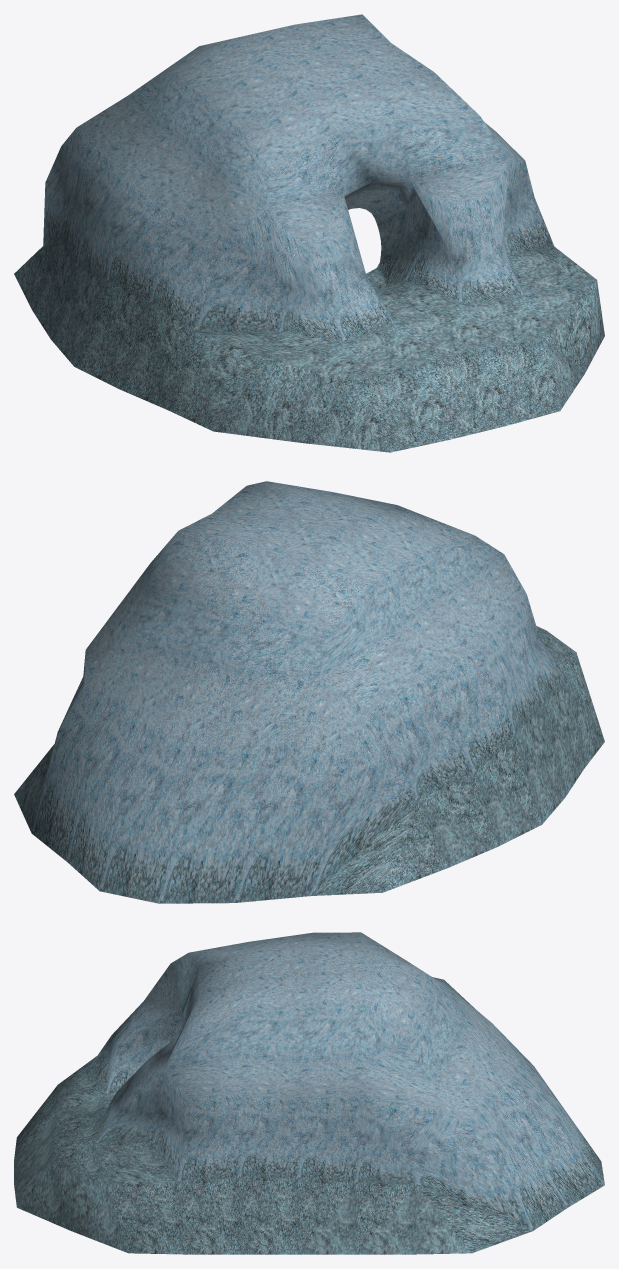
The model's file is thm_all_cave_flatland_s01_ice_r0_mesh_l2.fbx.
3 renders of one model, top to bottom at view 1: azimuth 30°, elevation 25°; view 2: azimuth 150°, elevation 25°; view 3: azimuth 270°, elevation 25°, orthographic. The views are drawn at different scales.
Visible parts, largest first — view 1: mesh_node; view 2: mesh_node; view 3: mesh_node.
Part boxes in pixels (box(x1,y1,x2,y2)): mesh_node: box(14, 14, 604, 452); mesh_node: box(14, 481, 604, 903); mesh_node: box(14, 932, 604, 1254).
Size of the model in its own units: 56.42 by 31.42 by 78.77.
